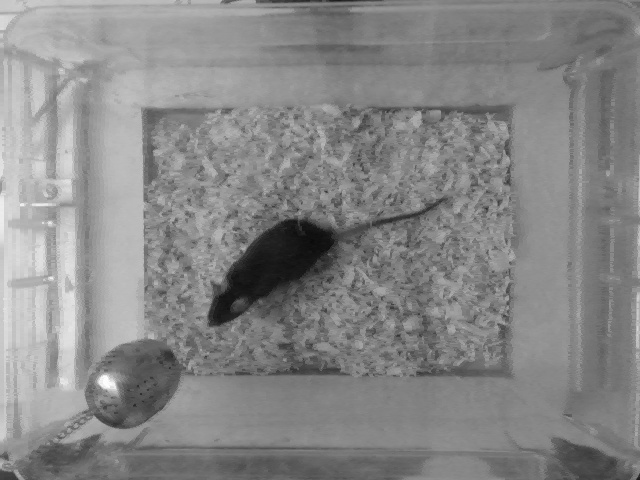mice: (206, 193, 450, 326)
